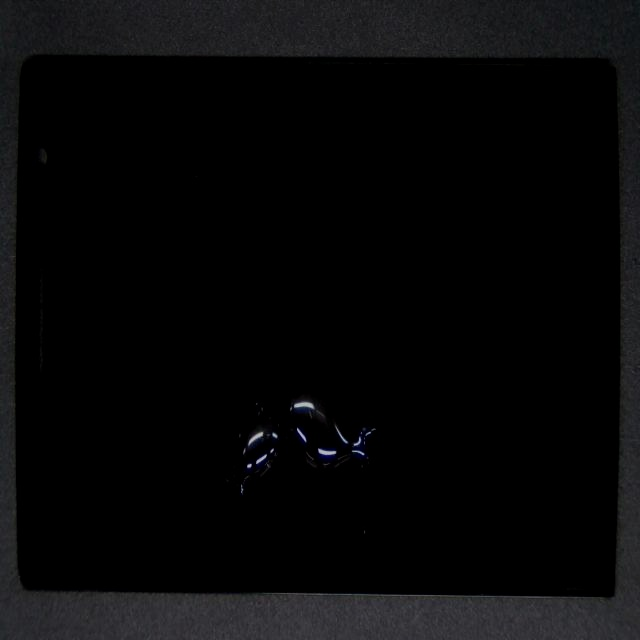oil: (178, 251, 555, 640), (154, 220, 401, 637)
